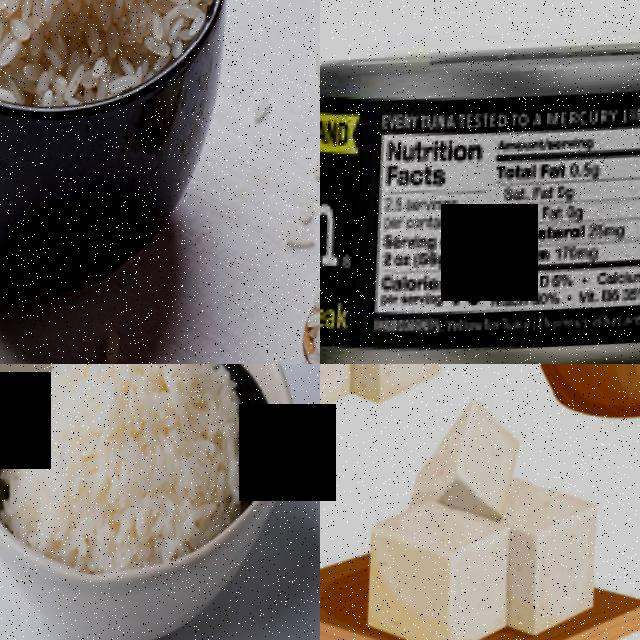tofu: (354, 494, 515, 640), (506, 489, 599, 640), (348, 364, 449, 418)
white rice: (26, 364, 245, 577), (0, 0, 217, 116)
